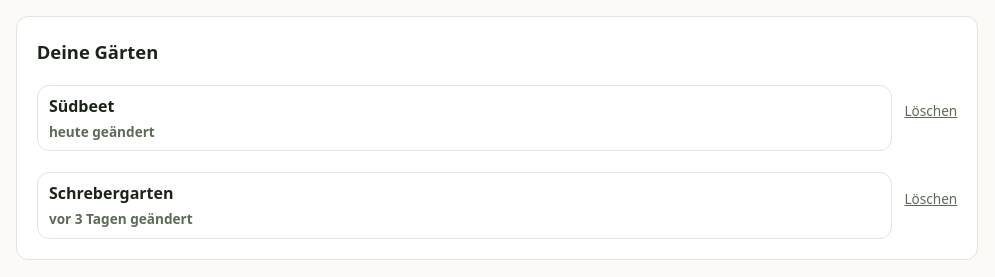
it: MyGardens › lets the question be withdrawn
The image size is (995, 277).
Click the button with aria-label "Südbeet löschen" at [931, 111], box [904,100,957,122]
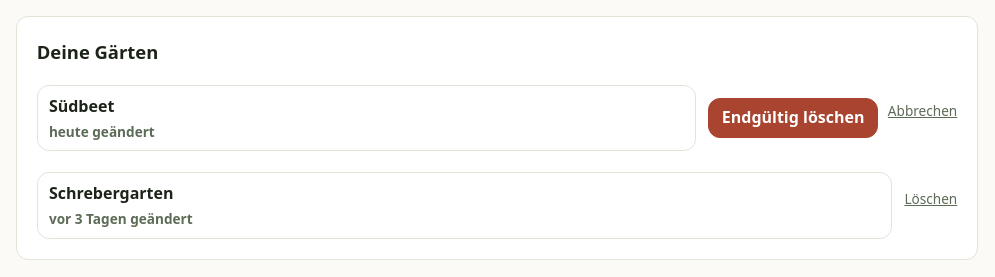
Click the button "Abbrechen" at [923, 111], box [888,100,957,122]
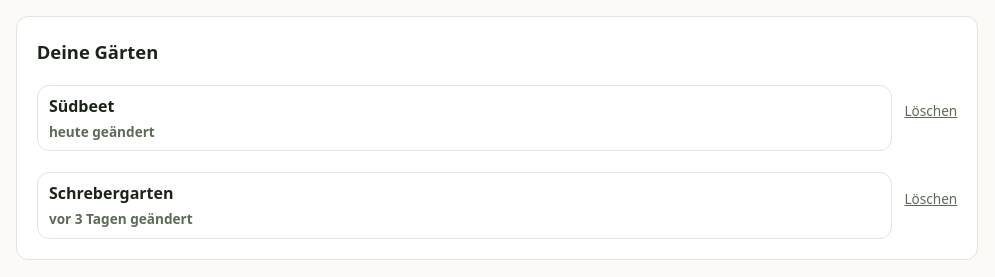
Expected: the button with aria-label "Südbeet löschen" is shown, [904,100,957,122]
